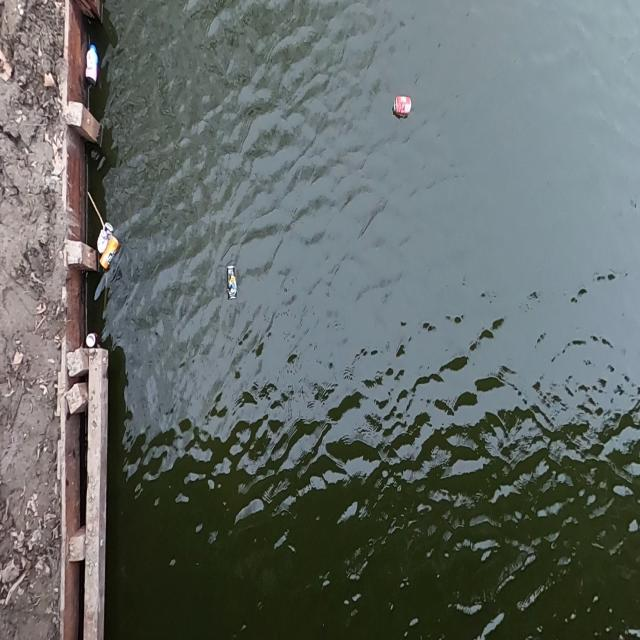Non plastique: (97, 229, 129, 301), (94, 210, 121, 270), (389, 83, 414, 127), (222, 257, 240, 308)
